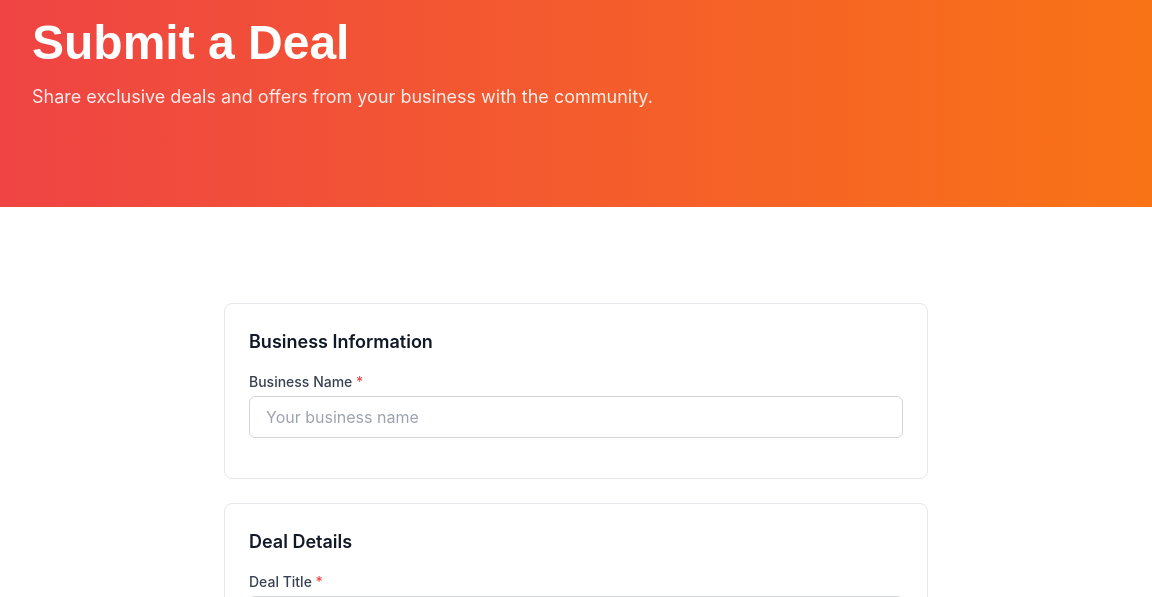
Test case: DealSubmitPage › submits form and shows success message
Type "Spice Palace" into the field named "business_name" at (576, 417), box x1=249 y1=396 x2=903 y2=438
(page scrolled)
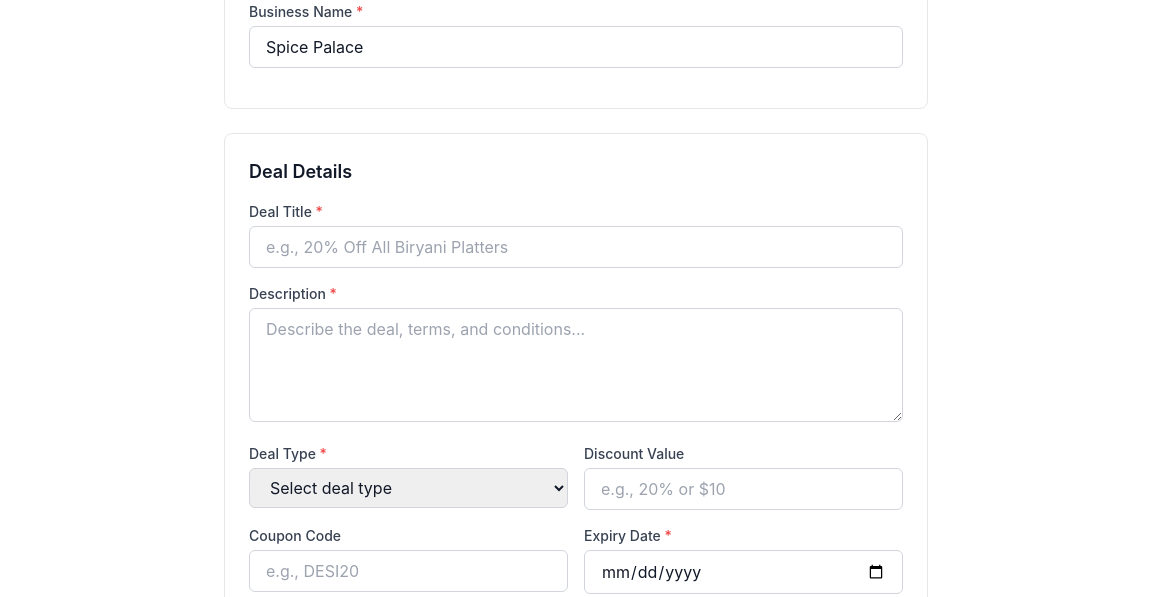
Type "20% Off Biryani" into the field named "title" at (576, 247), box x1=249 y1=226 x2=903 y2=268
Type "Great deal on biryani platters" into the text box named "description" at (576, 365), box x1=249 y1=308 x2=903 y2=422
Select "Percentage Off" in the dropdown named "deal_type" at (408, 488), box x1=249 y1=468 x2=568 y2=508
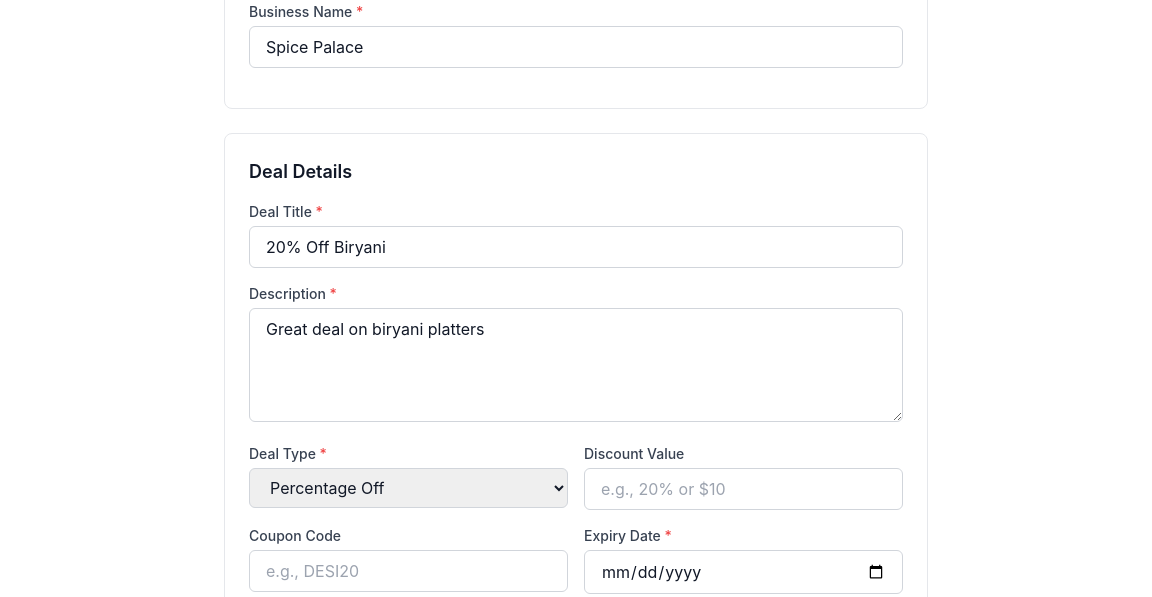
Type "2027-12-31" into the date field named "expiry_date" at (744, 572), box x1=584 y1=550 x2=903 y2=594
(page scrolled)
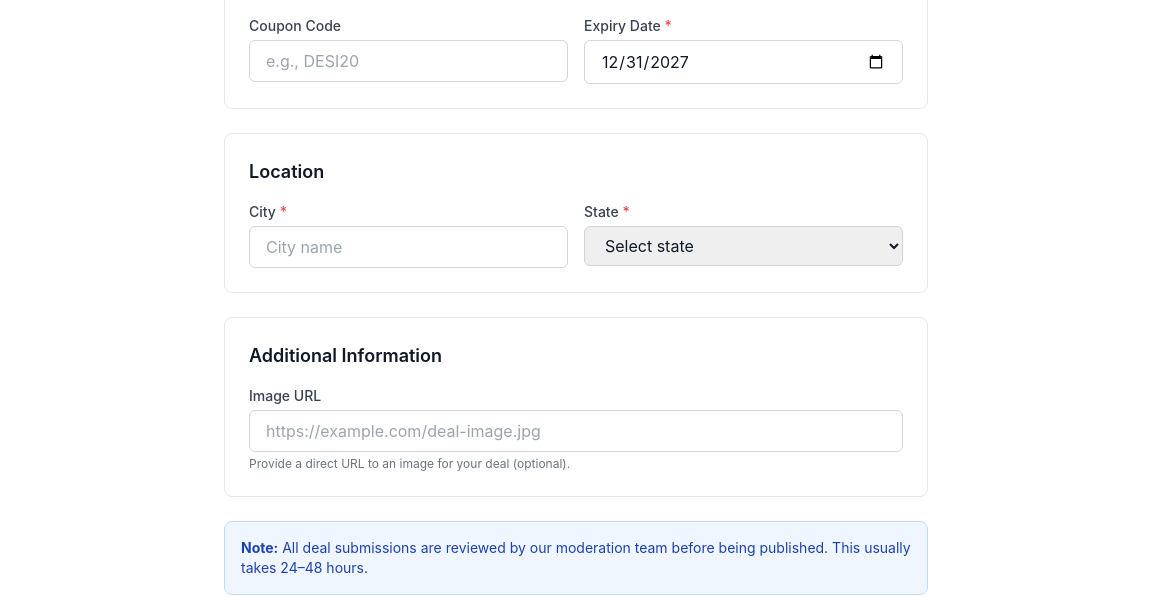
Type "Houston" into the field named "city" at (408, 247), box x1=249 y1=226 x2=568 y2=268
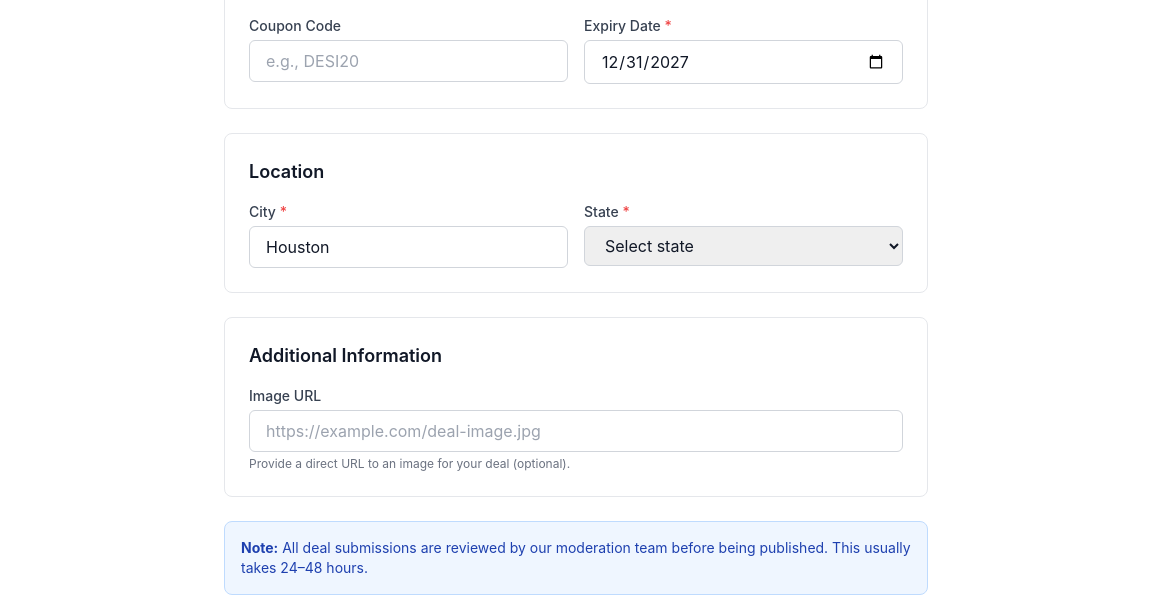
Select "TX" in the dropdown named "state" at (744, 246), box x1=584 y1=226 x2=903 y2=266
(page scrolled)
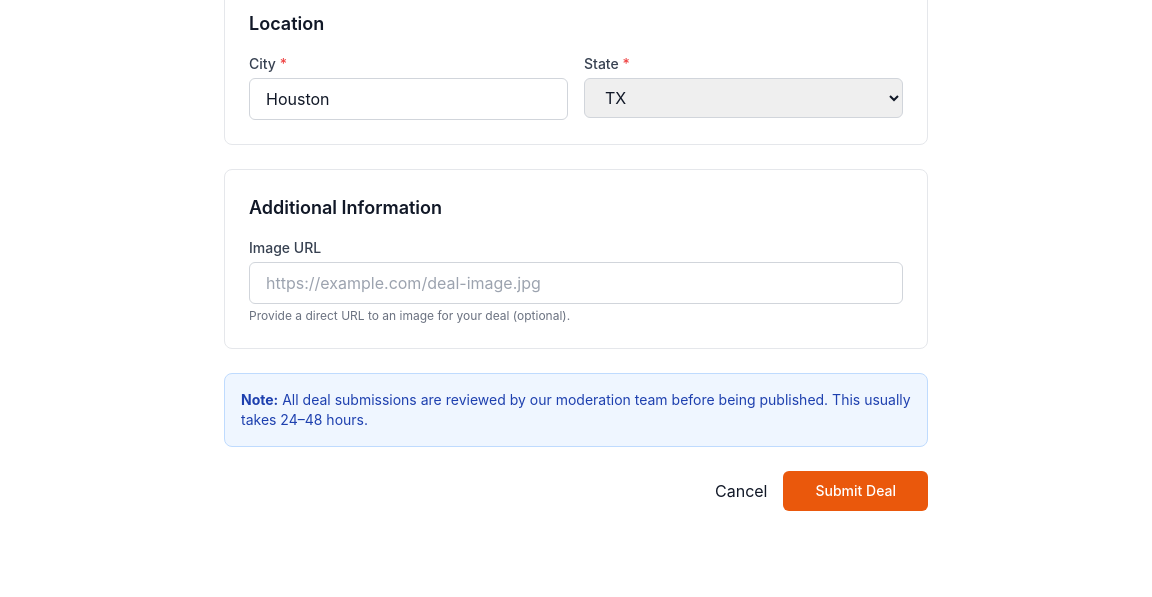
Click the button "Submit Deal" at (856, 491), box x1=784 y1=471 x2=928 y2=511
(page scrolled)
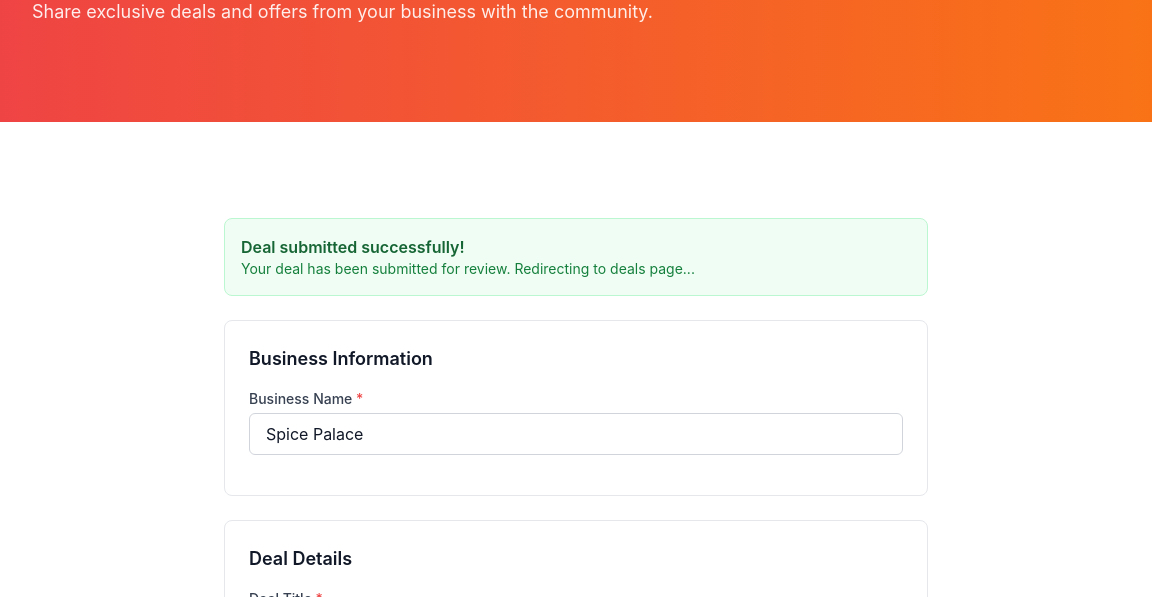
Expected: the text "Deal submitted successfully!" is shown, x1=241 y1=237 x2=465 y2=257
